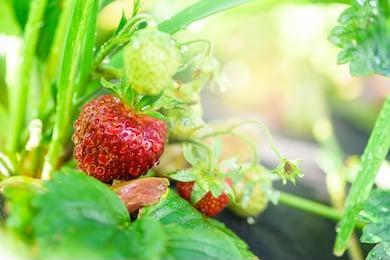Fresa: (66, 90, 175, 188), (178, 152, 236, 219)
